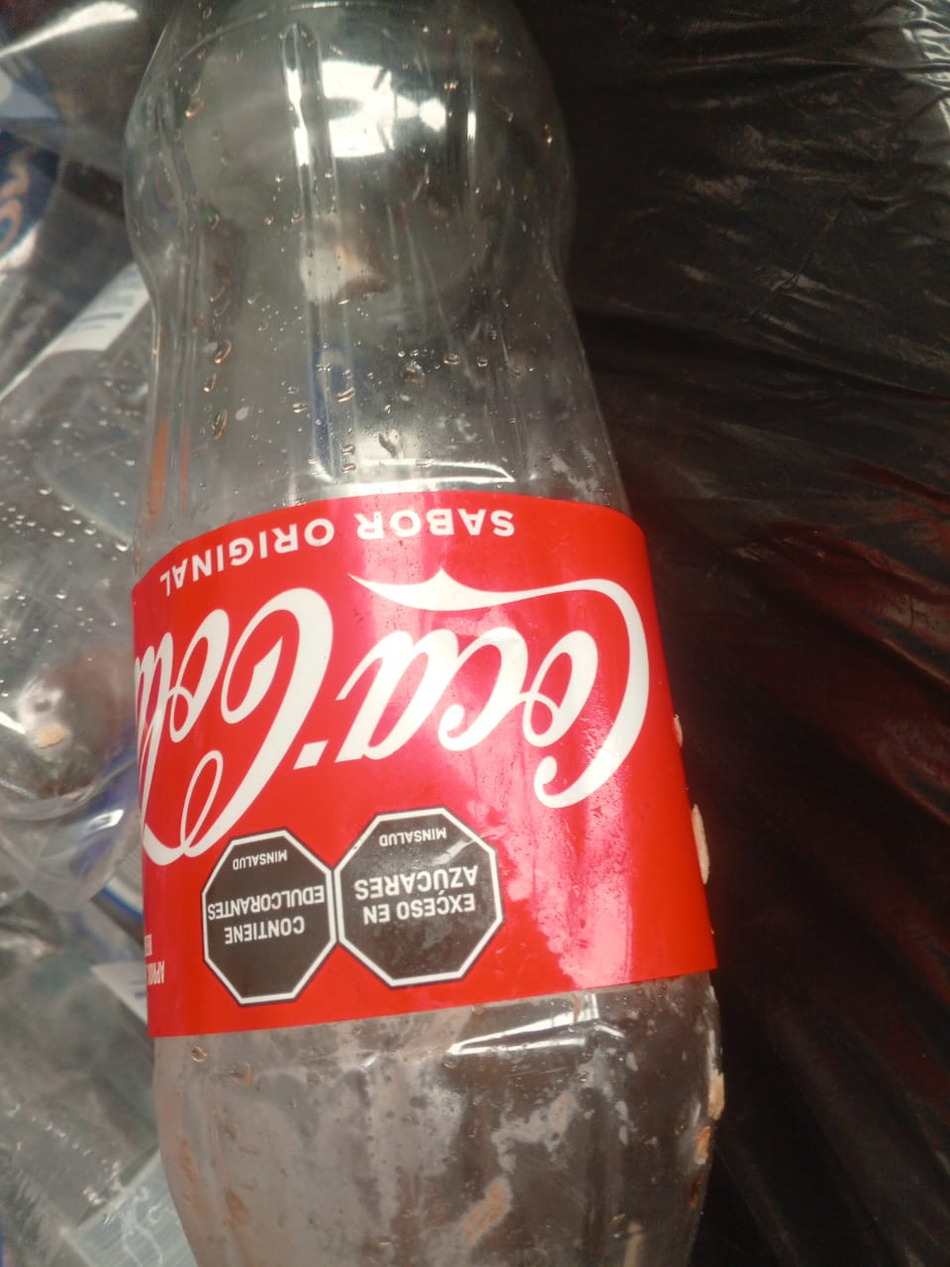Plastico: (124, 0, 719, 1267)
